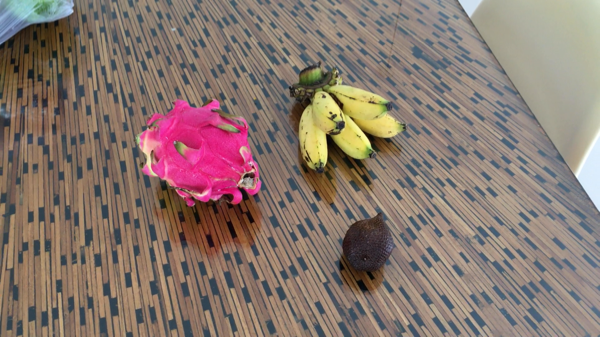banana: (291, 62, 402, 174)
dragon fruit: (136, 103, 259, 212)
snake fruit: (344, 218, 396, 268)
